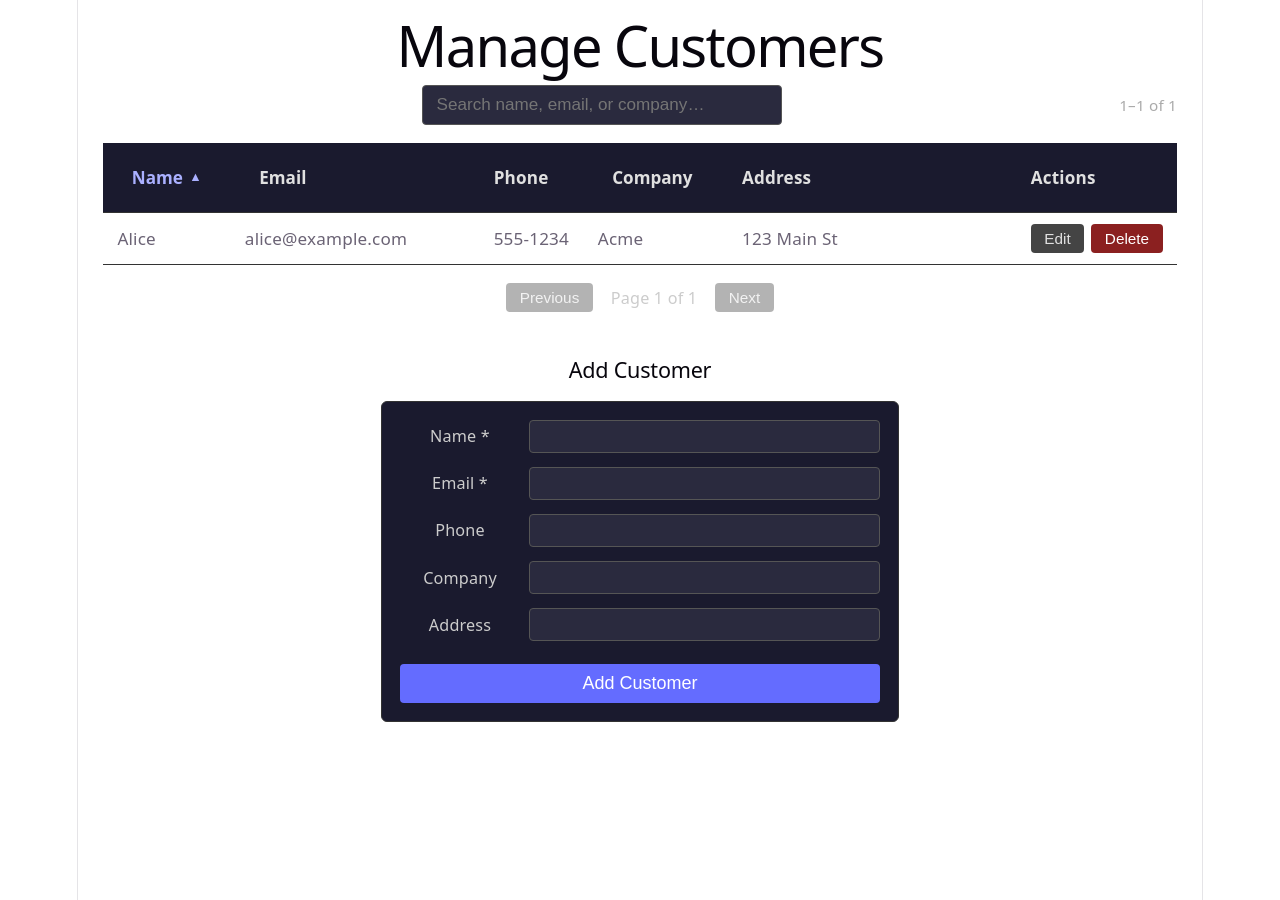
Test: Customers page › edits a customer and saves the changes
Check: the text "Alice" is shown, box [103,213,230,265]
Click the button "Edit".
click(1058, 239)  # box [1031,224,1084,253]
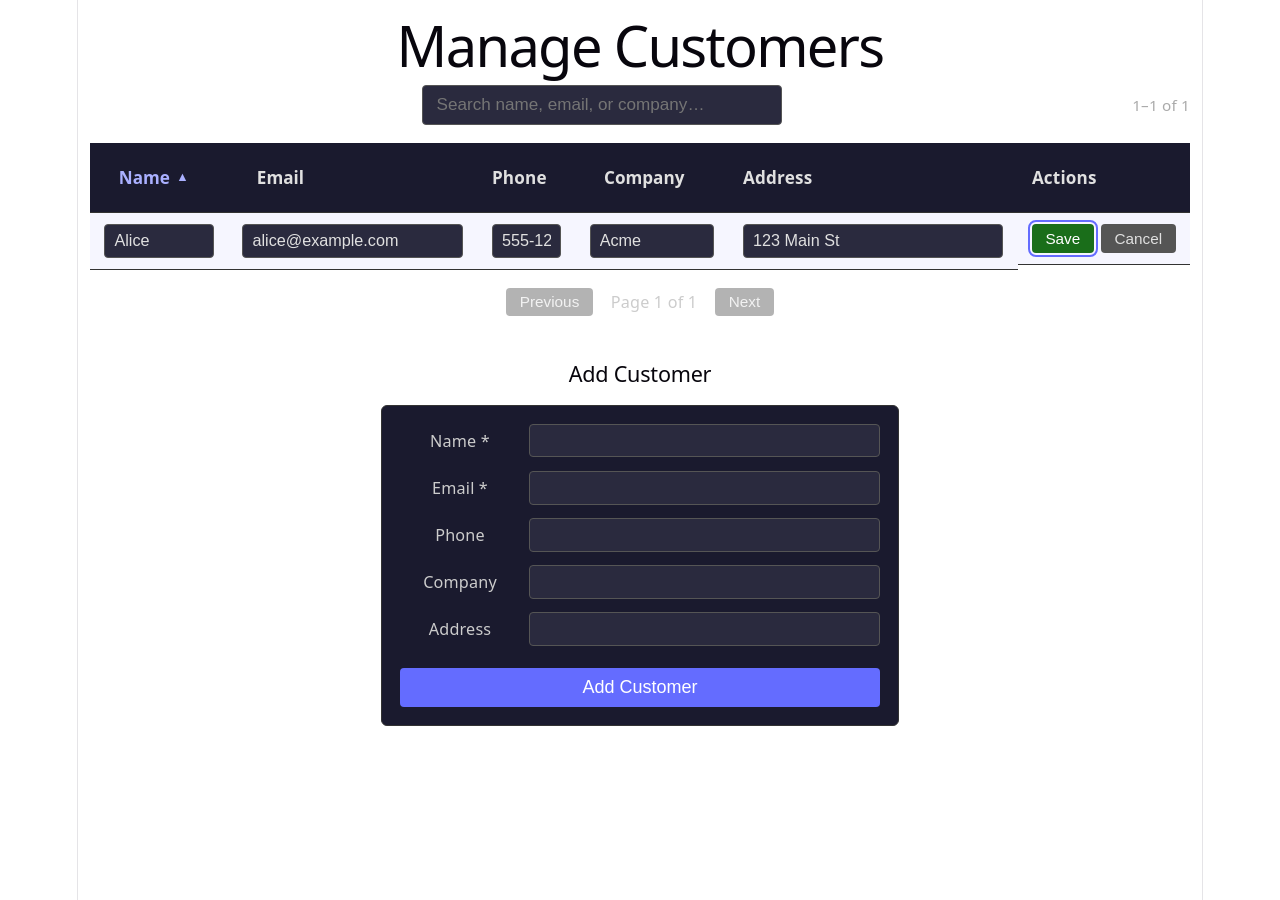
Replace the text in the 1st field showing "Alice" with "Alice Updated" at (159, 241), box [104,224,214,258]
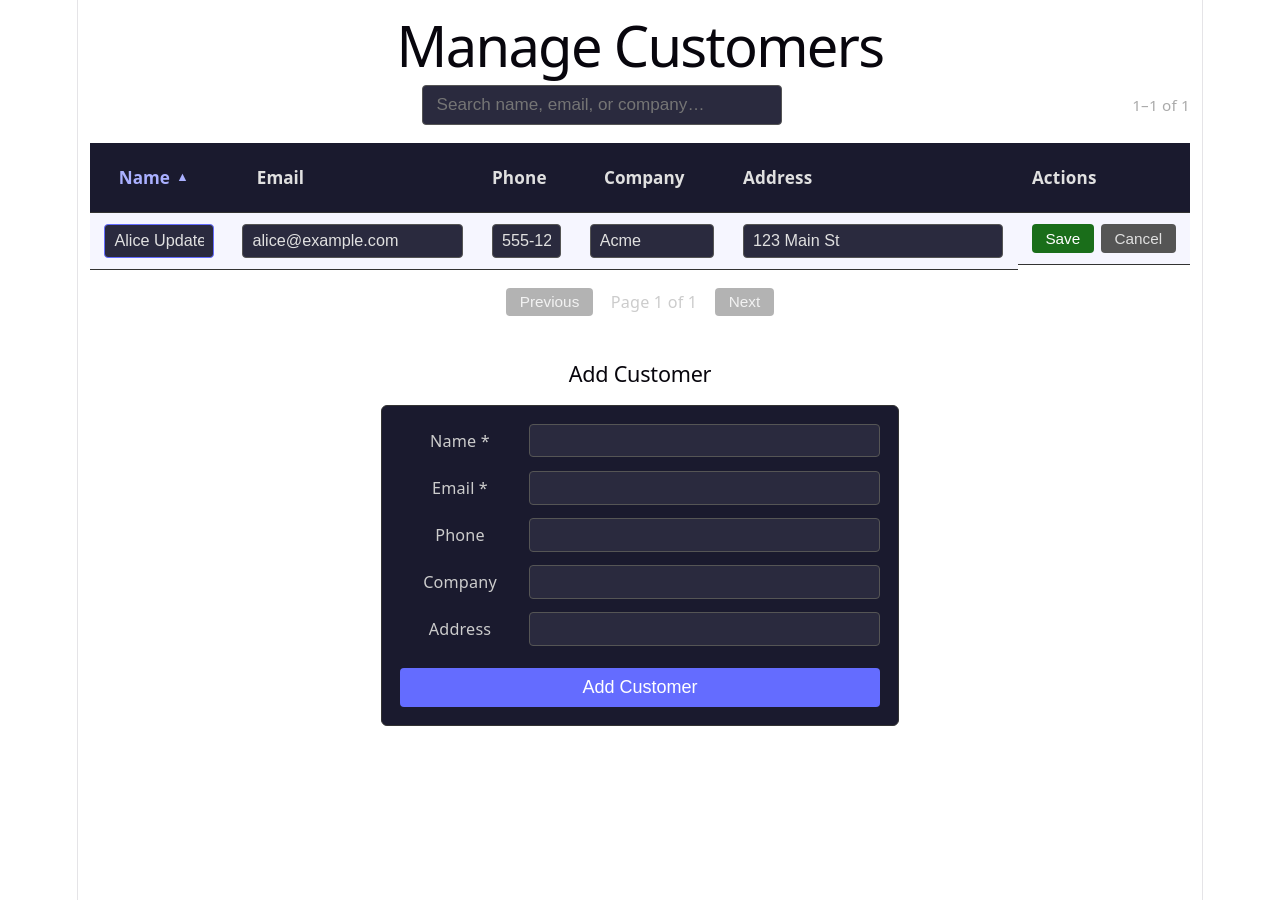
Click the button "Save".
click(1063, 239)  # box [1032,224,1094,253]
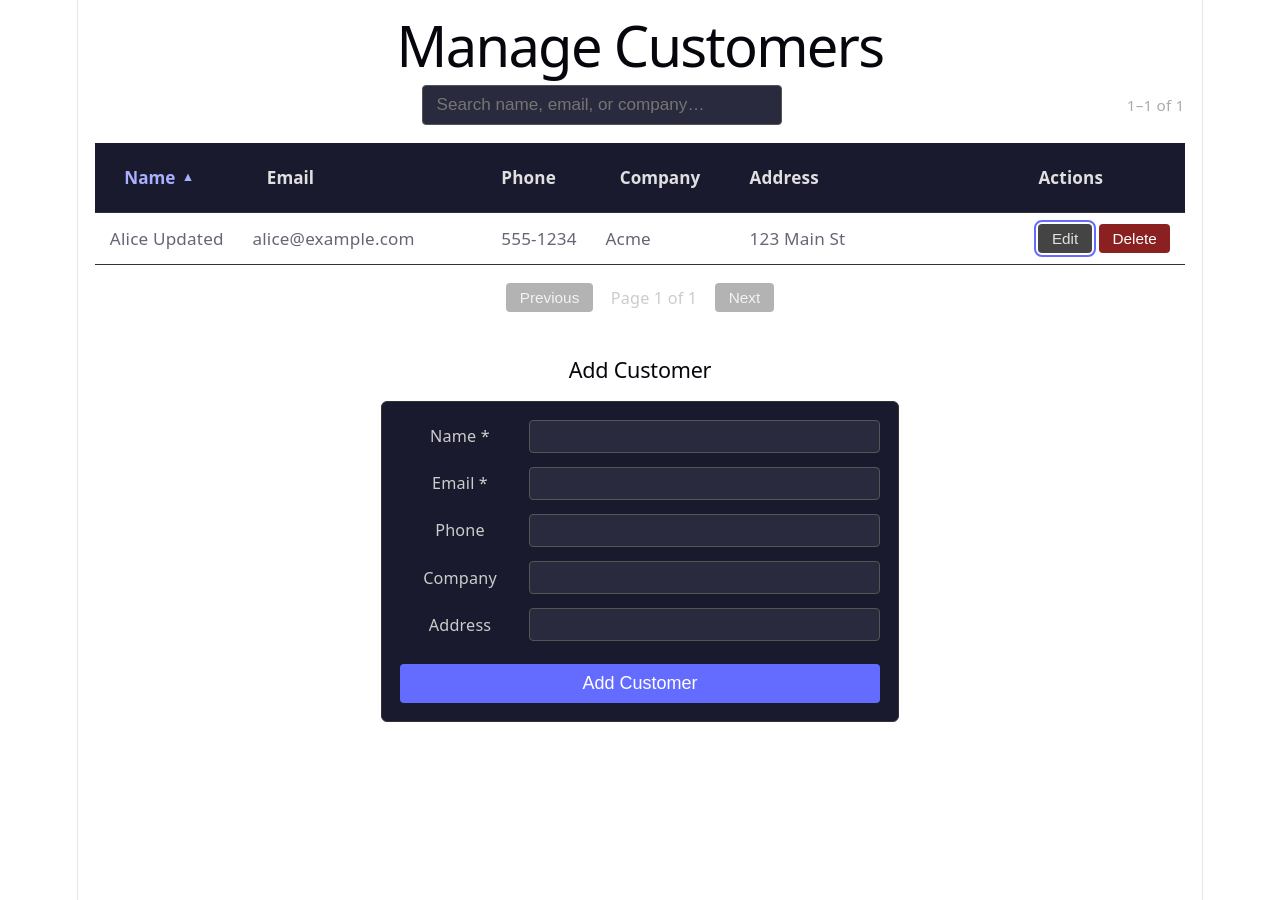
Check: the text "Alice Updated" is shown, box [96,213,238,265]
